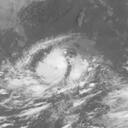cyclone: (34, 48, 68, 87)
